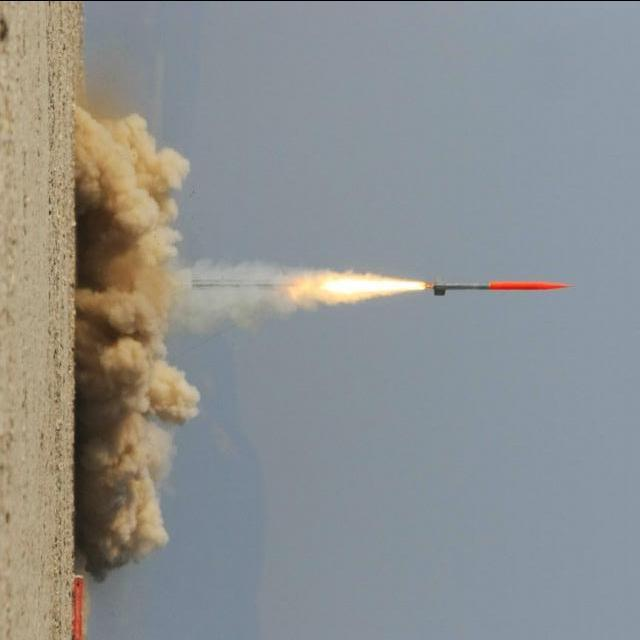Missile: (426, 281, 569, 294)
